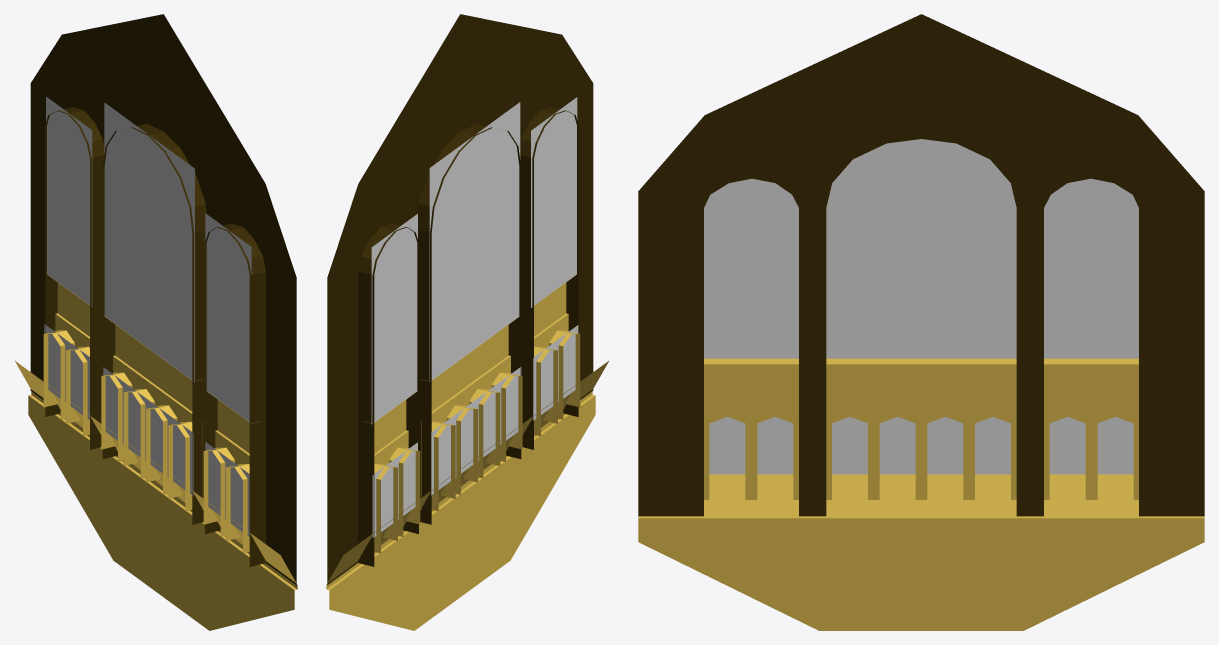
The model's file is Museum_Big_Window.fbx.
3 views of the same model, side by side, from view 1: azimuth 30°, elevation 25°; view 2: azimuth 150°, elevation 25°; view 3: azimuth 270°, elevation 25° (orthographic). The views are drawn at different scales.
Parts seen in each view (by area): view 1: Archi_Coté.003; view 2: Archi_Coté.003; view 3: Archi_Coté.003.
Part boxes in pixels (x1,y1,x2,y2): Archi_Coté.003: [15, 14, 297, 630]; Archi_Coté.003: [326, 14, 608, 630]; Archi_Coté.003: [638, 14, 1204, 630].
Size of the model in its own units: 73.63 by 1924 by 1597.
